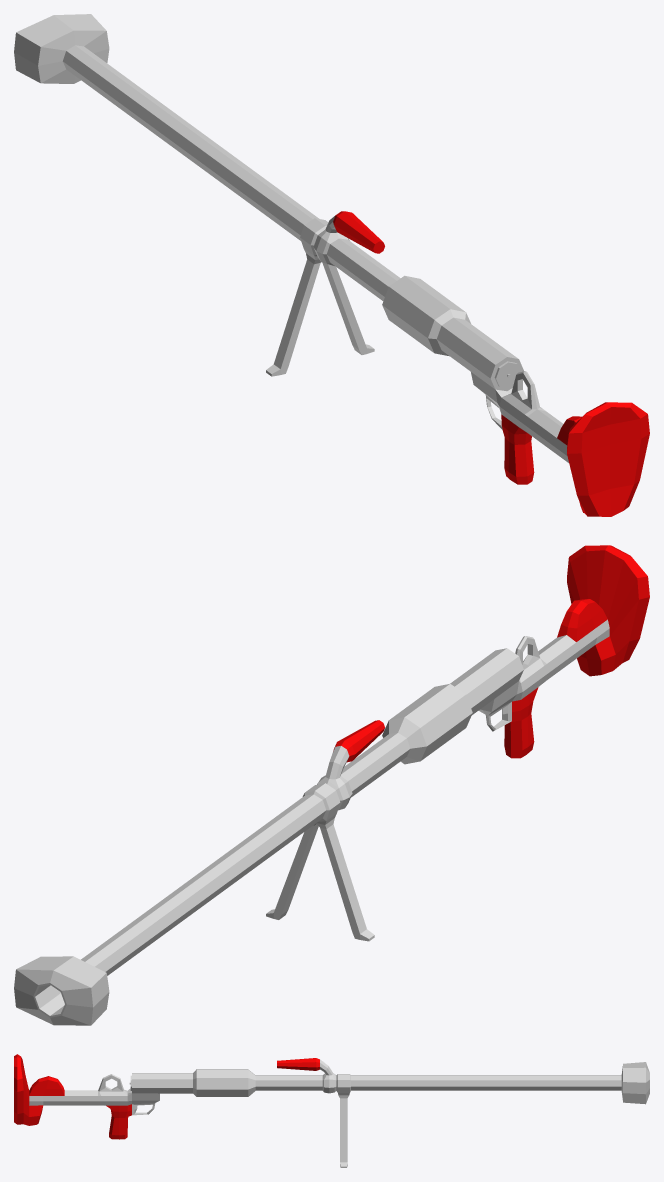
File: PTRD.glb
3 renders of one model, top to bottom at view 1: azimuth 30°, elevation 25°; view 2: azimuth 150°, elevation 25°; view 3: azimuth 270°, elevation 25°, orthographic. The views are drawn at different scales.
Visible parts, largest first — view 1: PTRD; view 2: PTRD; view 3: PTRD.
Boxes of the visible parts, left/top/right/bottom form: PTRD: left=14, top=14, right=649, bottom=516; PTRD: left=14, top=545, right=649, bottom=1025; PTRD: left=14, top=1054, right=649, bottom=1167.
Size of the model in its own units: 0.2604 by 0.4119 by 2.46.
